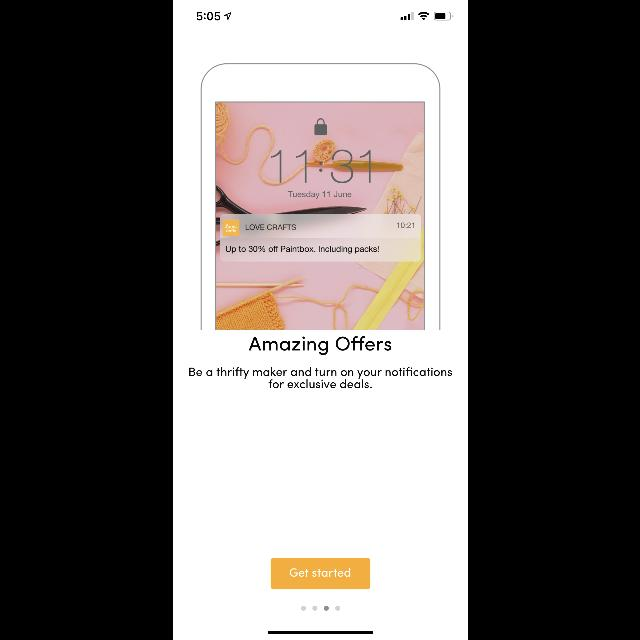image: (200, 63, 440, 330)
pageindicator: (300, 606, 340, 610)
text: (188, 368, 452, 388), (248, 336, 392, 354)
textbutton: (270, 558, 370, 588)
uppertaskbar: (196, 12, 452, 21)
